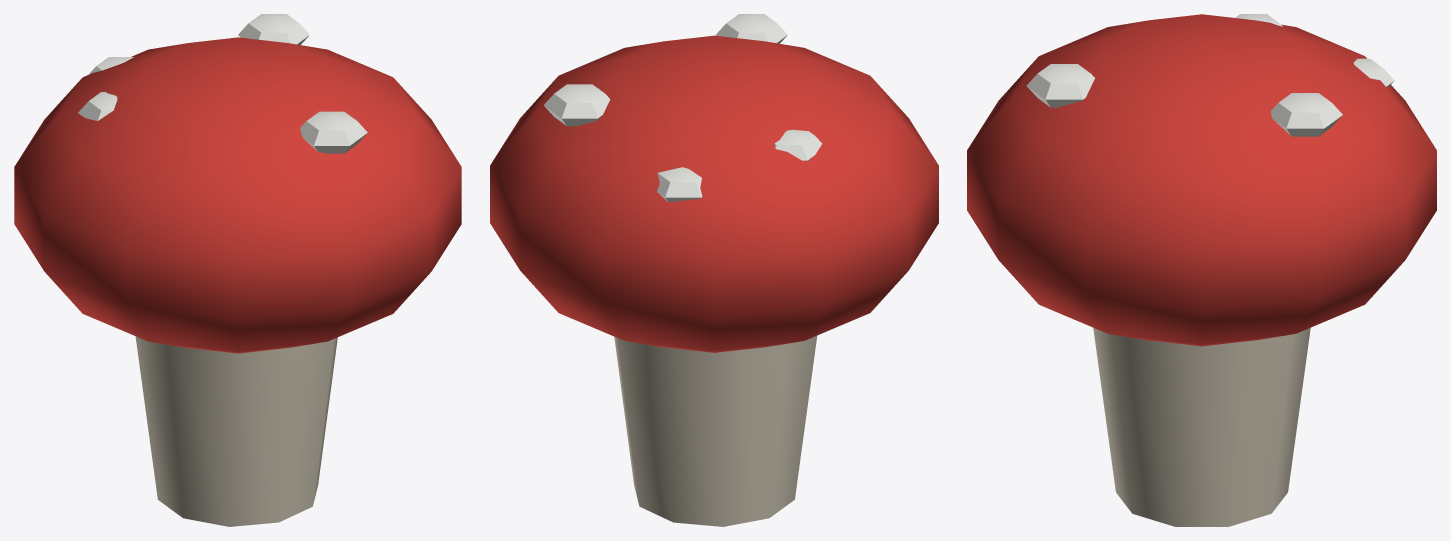
The model's file is item_mushroom_item.glb.
3 renders of one model, left to right at view 1: azimuth 30°, elevation 25°; view 2: azimuth 150°, elevation 25°; view 3: azimuth 270°, elevation 25°, orthographic. The views are drawn at different scales.
Parts seen in each view (by area): view 1: item_mushroom_item; view 2: item_mushroom_item; view 3: item_mushroom_item.
Boxes of the visible parts, x1=… form: item_mushroom_item: x1=14, y1=14, x2=461, y2=526; item_mushroom_item: x1=490, y1=14, x2=938, y2=526; item_mushroom_item: x1=967, y1=14, x2=1436, y2=526.
Size of the model in its own units: 0.273 by 0.2868 by 0.273.
